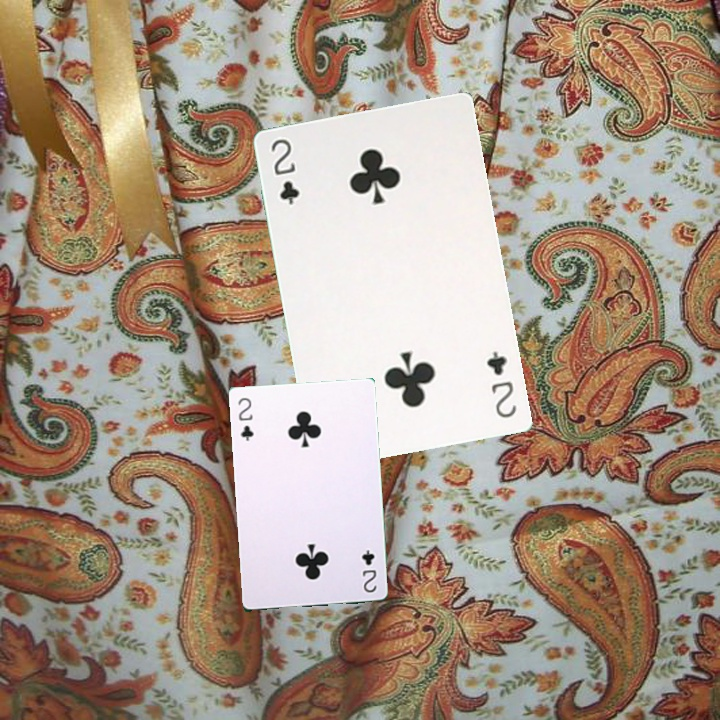2c: (483, 347, 519, 421), (266, 135, 302, 208), (234, 393, 256, 443), (358, 546, 379, 595)
